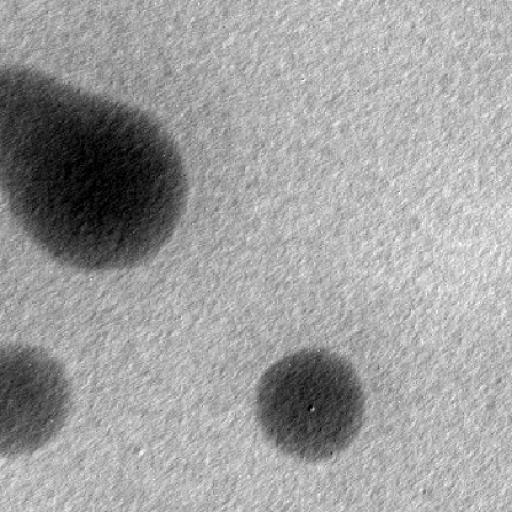Nanoparticles: (13, 100, 189, 267), (254, 342, 368, 463), (0, 64, 69, 196), (0, 343, 73, 458)
